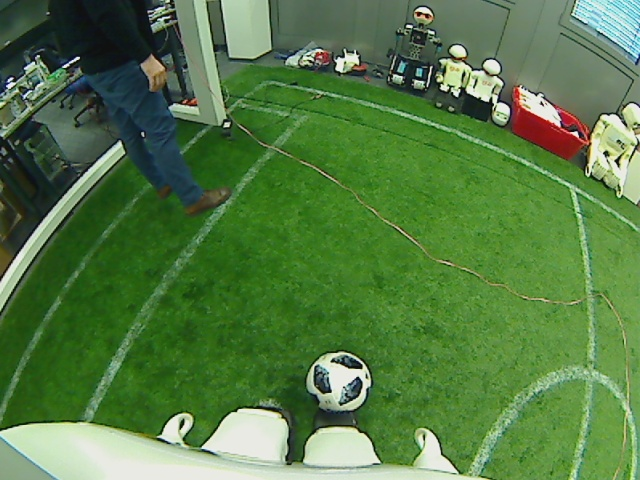ball: (304, 348, 373, 413)
